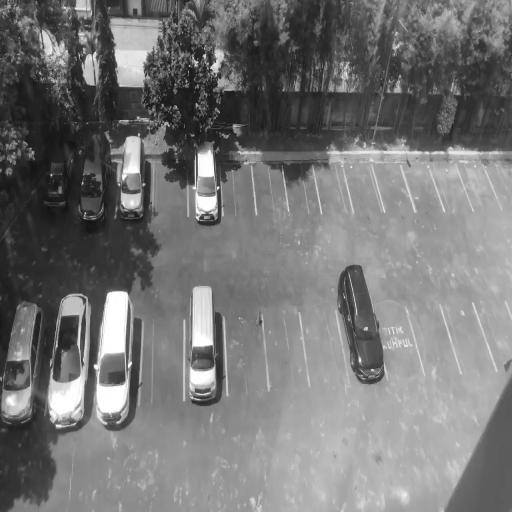Car: (43, 293, 95, 432), (0, 296, 50, 434), (334, 262, 388, 386), (92, 289, 138, 429), (187, 282, 222, 405), (73, 127, 113, 230), (40, 134, 81, 213), (113, 134, 147, 225), (191, 133, 221, 223)
Space Available: (298, 309, 350, 391), (442, 302, 498, 372), (140, 319, 186, 403), (263, 311, 310, 393), (407, 304, 461, 374), (225, 315, 270, 395), (377, 305, 425, 380), (474, 302, 512, 368), (399, 161, 445, 213), (430, 161, 474, 213), (456, 162, 501, 211), (371, 163, 415, 212), (313, 162, 354, 214), (250, 164, 289, 217), (220, 161, 255, 220), (344, 165, 385, 214), (154, 158, 189, 215), (283, 165, 322, 211), (485, 159, 512, 210)
